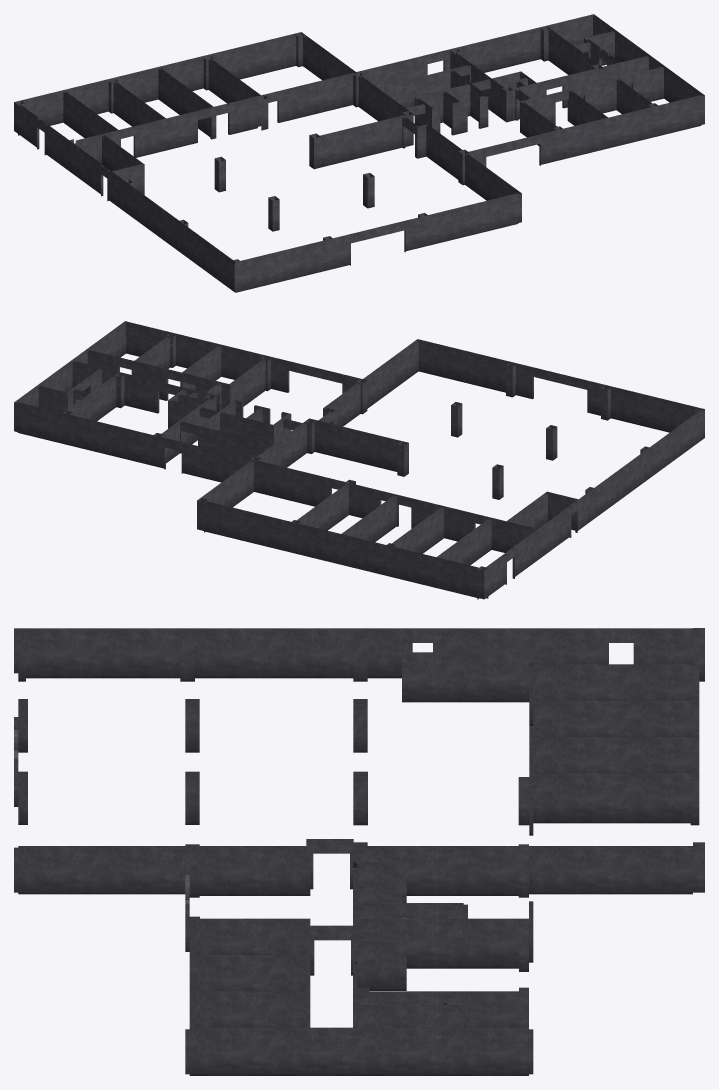
File: 1f墙体.glb
The picture shows the model from 3 angles, top to bottom: view 1: azimuth 30°, elevation 25°; view 2: azimuth 150°, elevation 25°; view 3: azimuth 270°, elevation 25°; orthographic projection. The views are drawn at different scales.
Parts seen in each view (by area): view 1: 1f墙体; view 2: 1f墙体; view 3: 1f墙体.
Part boxes in pixels (x1,y1,x2,y2): 1f墙体: [14, 14, 704, 292]; 1f墙体: [14, 321, 704, 599]; 1f墙体: [14, 628, 704, 1075].
Bounding box in the file's own units: 5351 × 300 × 3894.
Materials: 1 (1 with a texture image).
